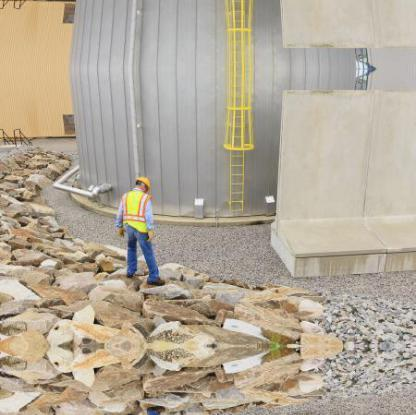helmet: (134, 169, 158, 199)
